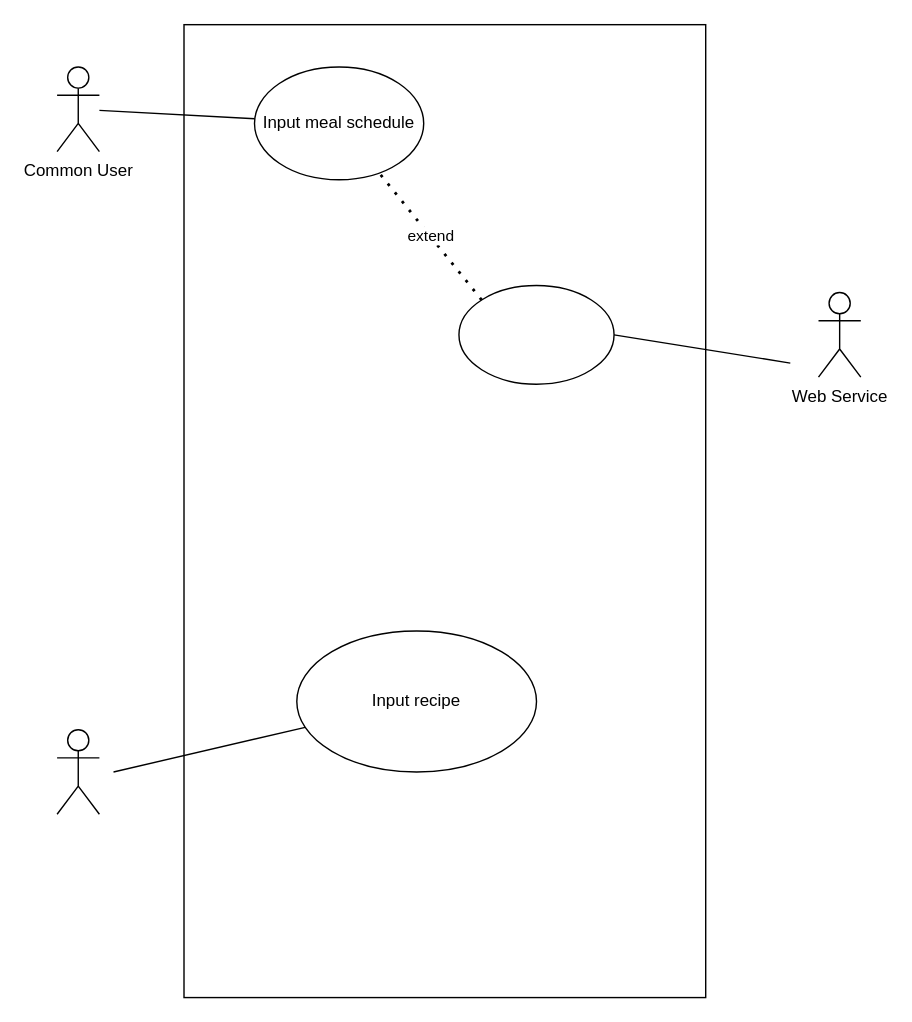
The diagram is 912 pixels wide and 1022 high, and some of its shapes have lost their labels. Each missing label, with the centre of its shape:
Admin: the point at 77,771
Generate grocery list: the point at 536,334
